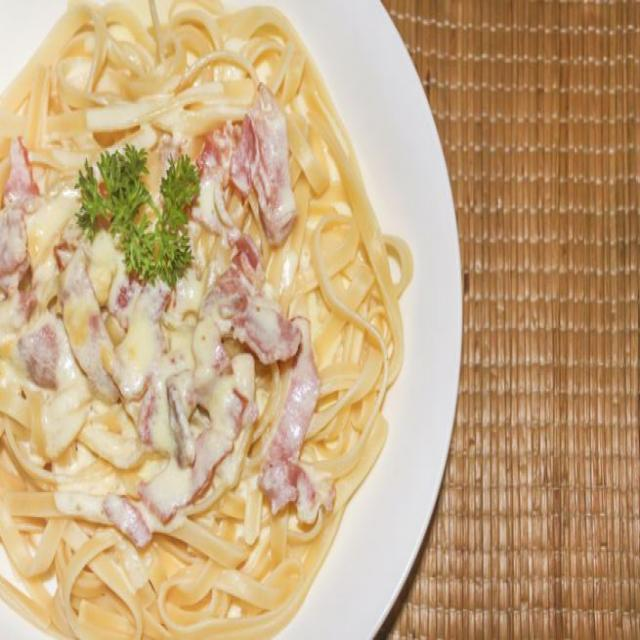Pasta with carbonara sauce: (12, 23, 456, 605)
